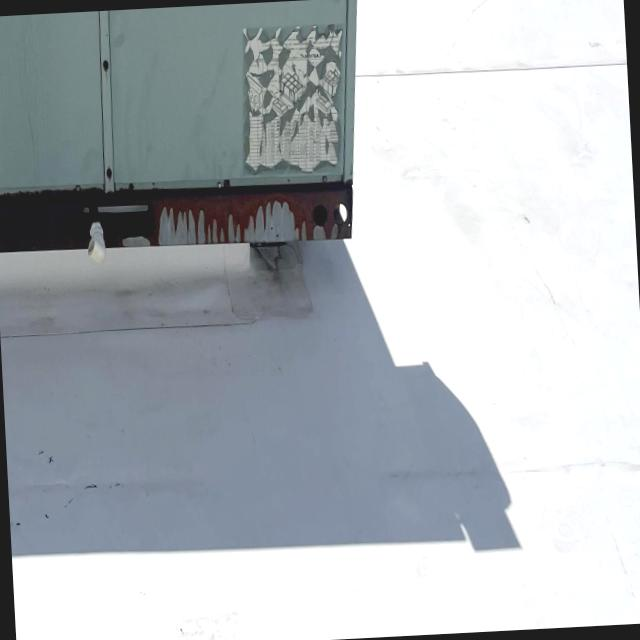RTU: (0, 0, 466, 363)
